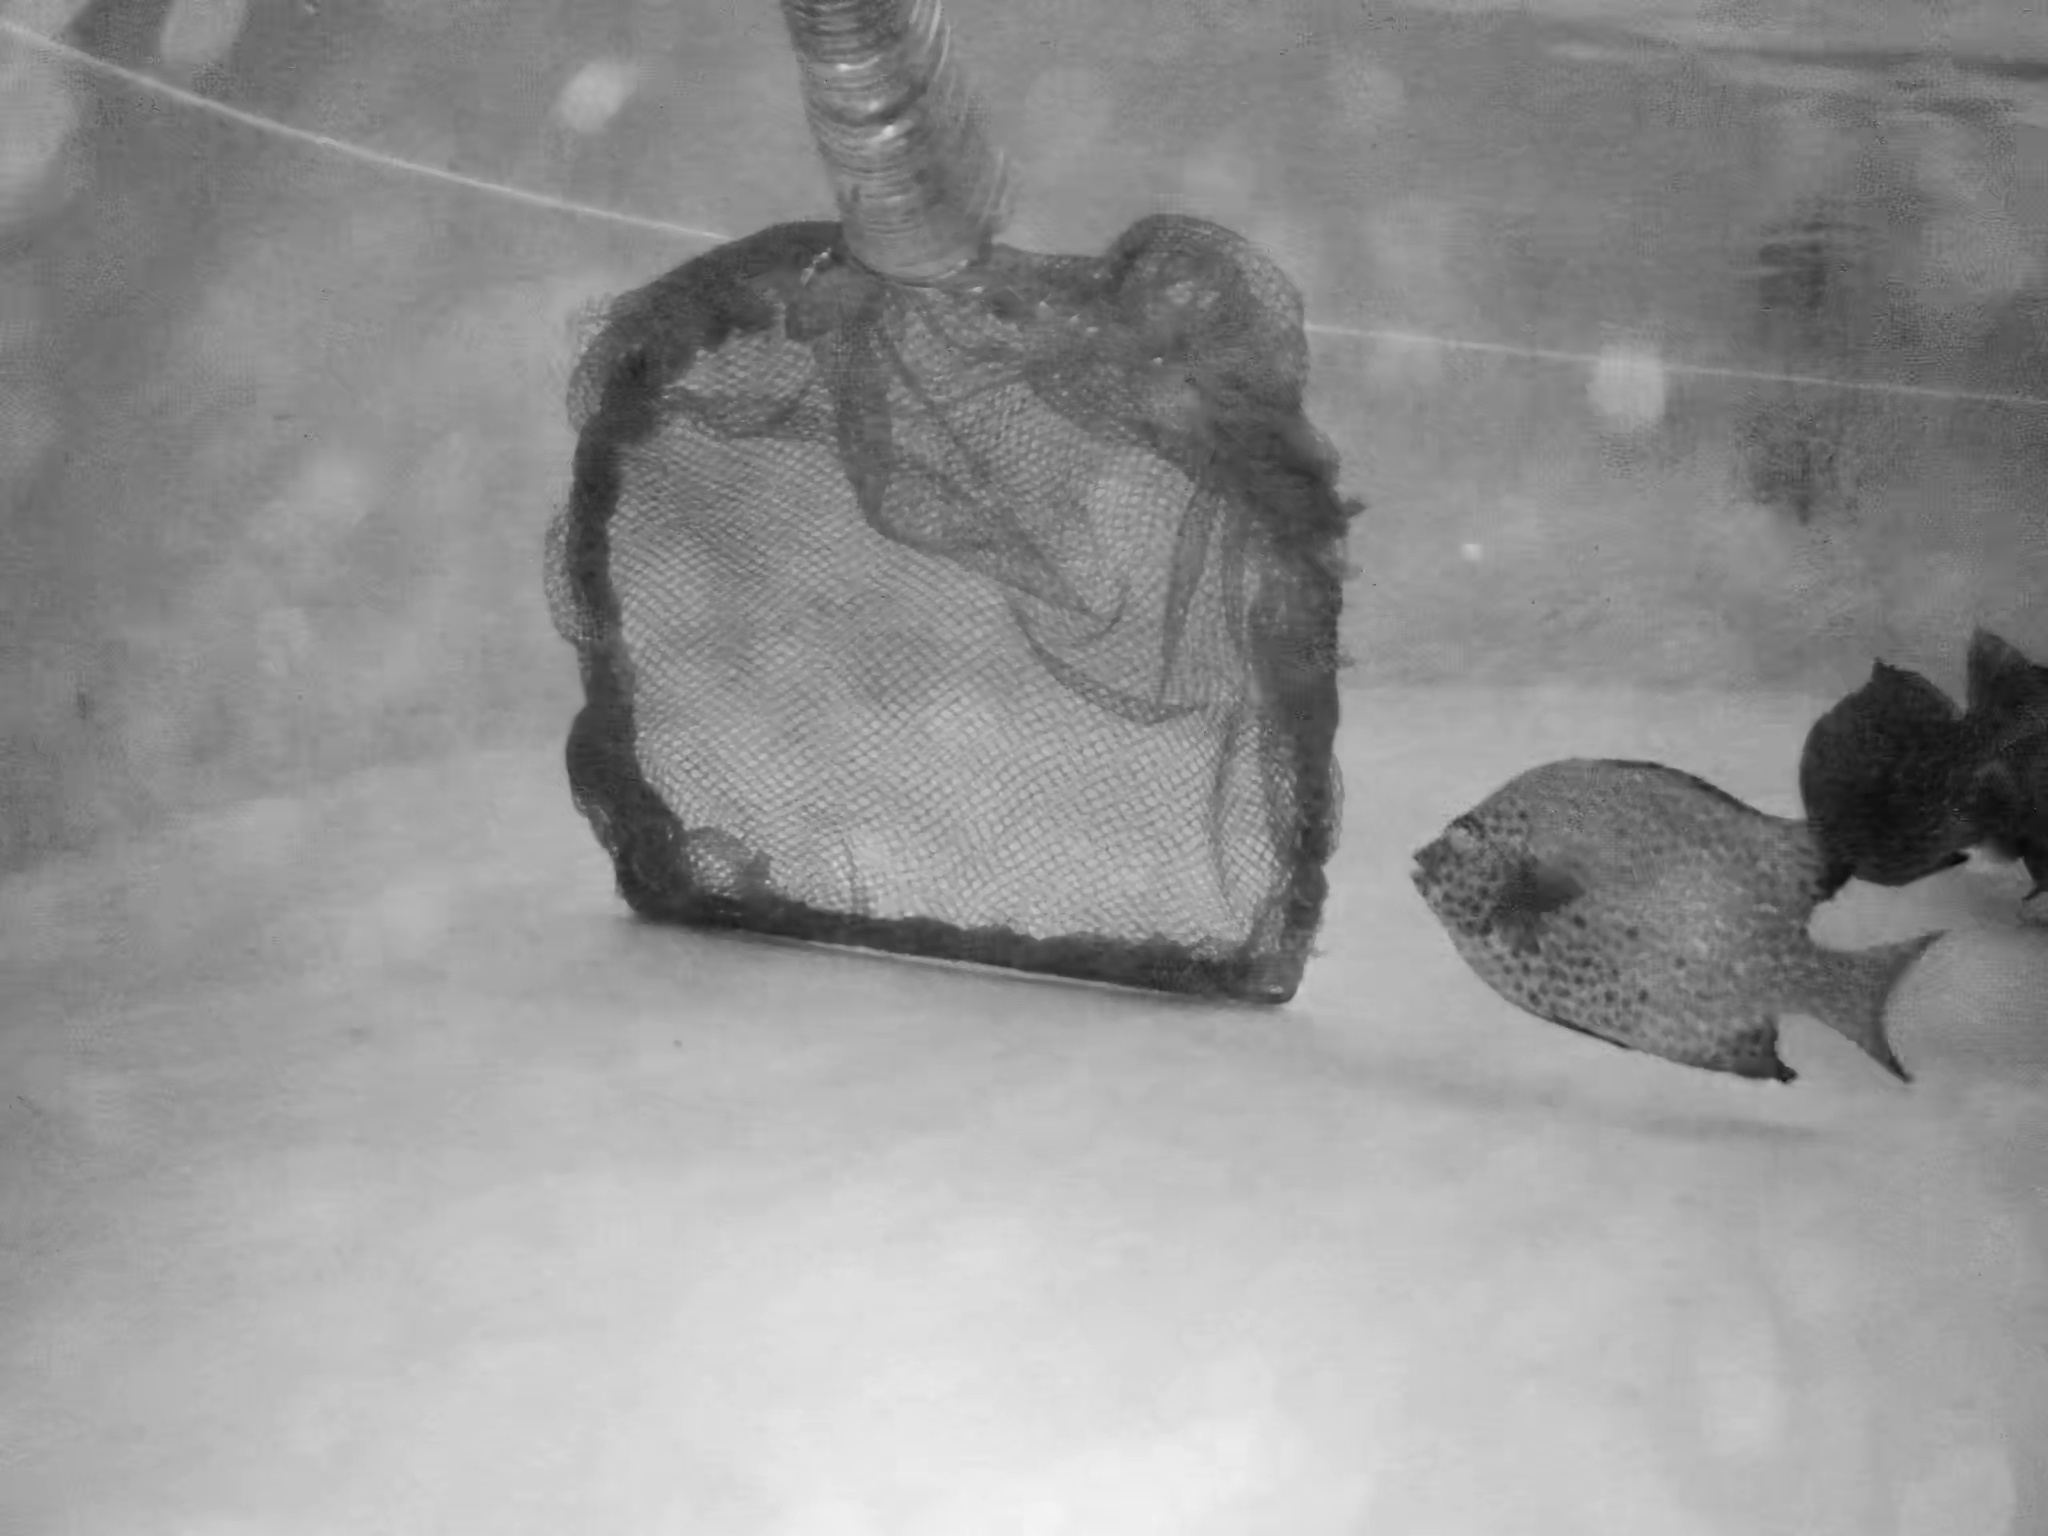fish: (1413, 724, 1951, 1137), (1788, 615, 2048, 887)
